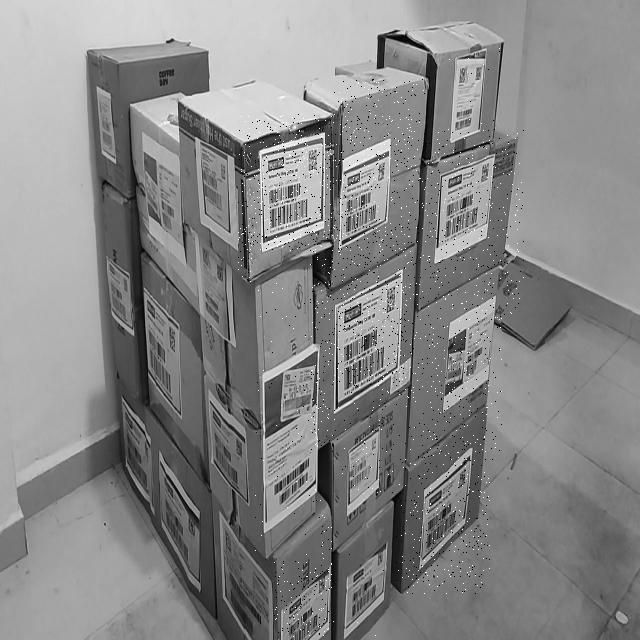BoxFace: (310, 236, 420, 451), (415, 129, 524, 317), (255, 252, 321, 559), (334, 79, 428, 288), (407, 260, 502, 463), (393, 404, 490, 594), (238, 114, 334, 282), (330, 386, 410, 556), (424, 36, 505, 161), (333, 494, 396, 640), (274, 515, 332, 638)
